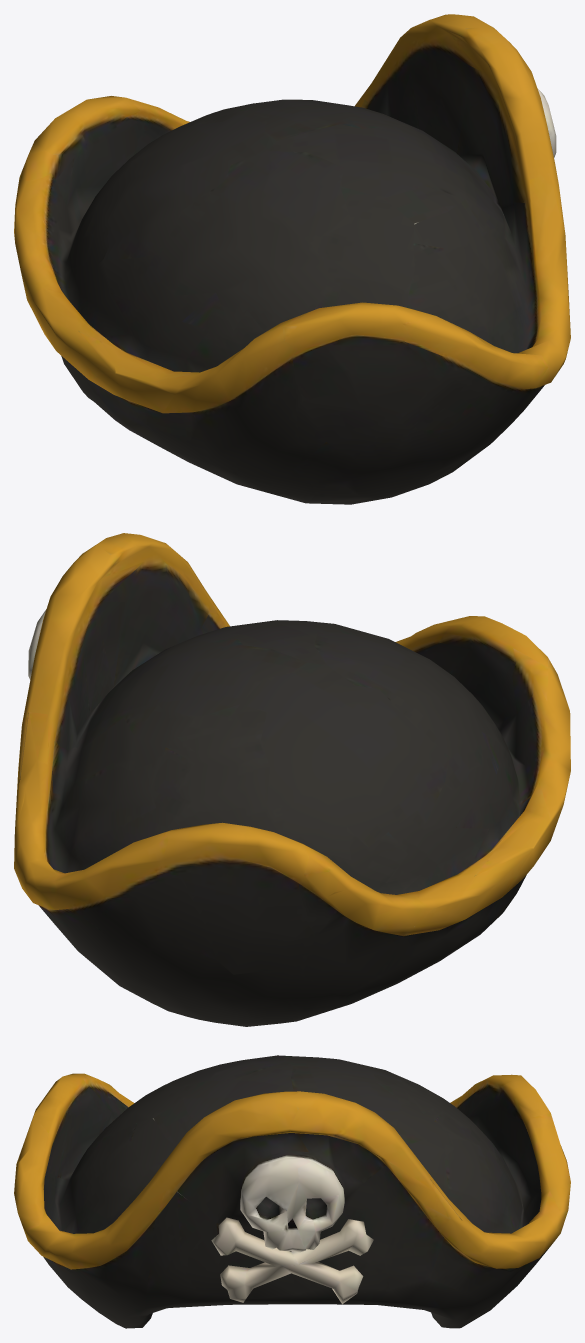
File: hat-pirate.glb
3 views of the same model, one above another, from view 1: azimuth 30°, elevation 25°; view 2: azimuth 150°, elevation 25°; view 3: azimuth 270°, elevation 25° (orthographic). The views are drawn at different scales.
Visible parts, largest first — view 1: tripo_node_c0cd762b-364e-4fc6-a0cc-d5cce771bdcd; view 2: tripo_node_c0cd762b-364e-4fc6-a0cc-d5cce771bdcd; view 3: tripo_node_c0cd762b-364e-4fc6-a0cc-d5cce771bdcd.
Boxes of the visible parts, box(x1,y1,x2,y2) form: tripo_node_c0cd762b-364e-4fc6-a0cc-d5cce771bdcd: box(14, 14, 570, 504); tripo_node_c0cd762b-364e-4fc6-a0cc-d5cce771bdcd: box(14, 533, 570, 1026); tripo_node_c0cd762b-364e-4fc6-a0cc-d5cce771bdcd: box(14, 1055, 570, 1328).
Bounding box in the file's own units: 0.7985 × 0.5985 × 1.
1 material, 1 textured.
